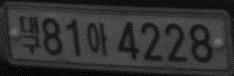1: (64, 18, 85, 56)
2: (164, 22, 188, 62), (141, 21, 163, 60)
4: (117, 21, 140, 60)
8: (189, 22, 213, 62), (42, 16, 63, 56)
대구_V: (19, 15, 41, 53)
아: (87, 21, 110, 56)
